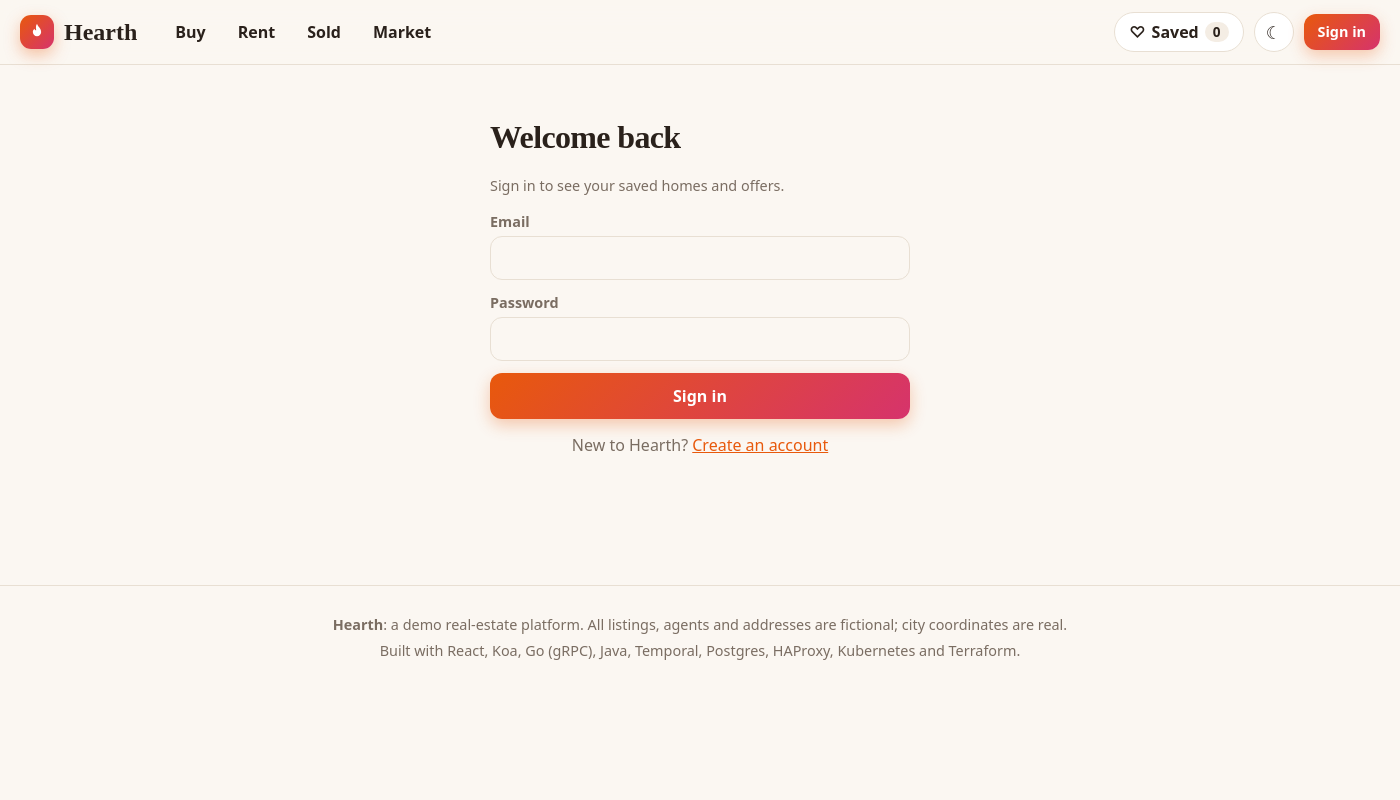
accounts and offers (network stubbed) › protected pages redirect to sign in, then return you after signing in
This screenshot has width=1400, height=800.
Type "ada@example.com" into the field named "email" at (700,258), box 490,236 -> 910,280
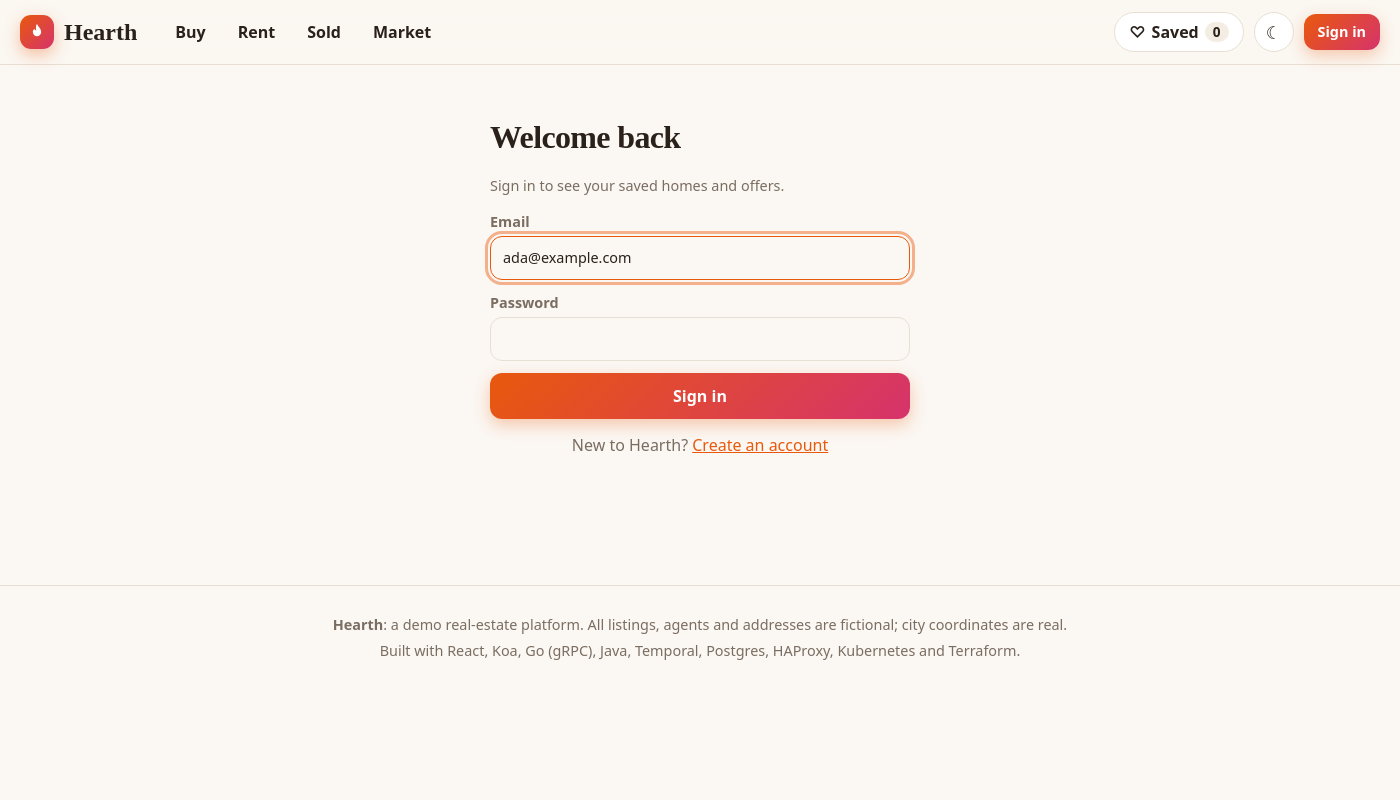
Type "correct-horse-battery" into the password field named "password" at (700,339), box 490,317 -> 910,361
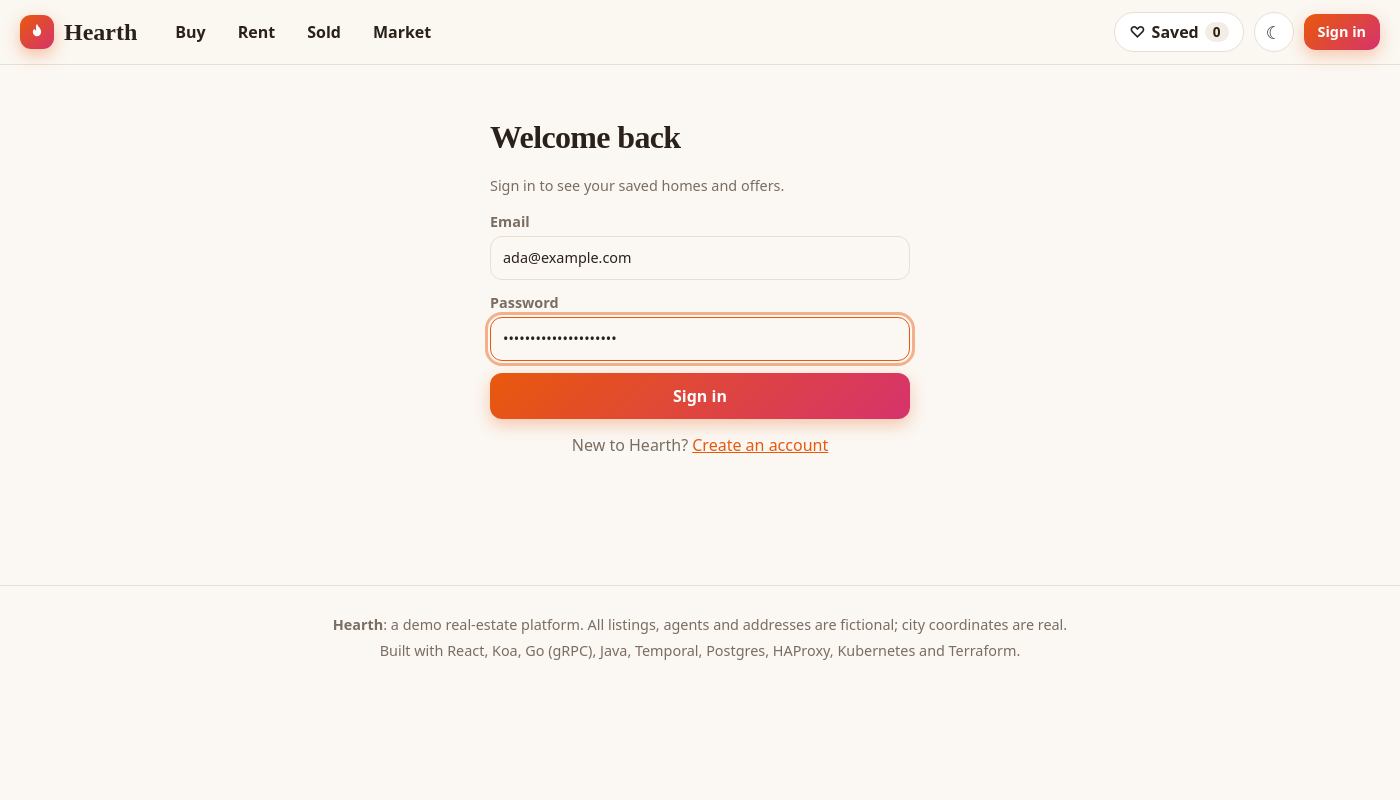
Click the button with test id "auth-submit" at (700,396), box 490,373 -> 910,419
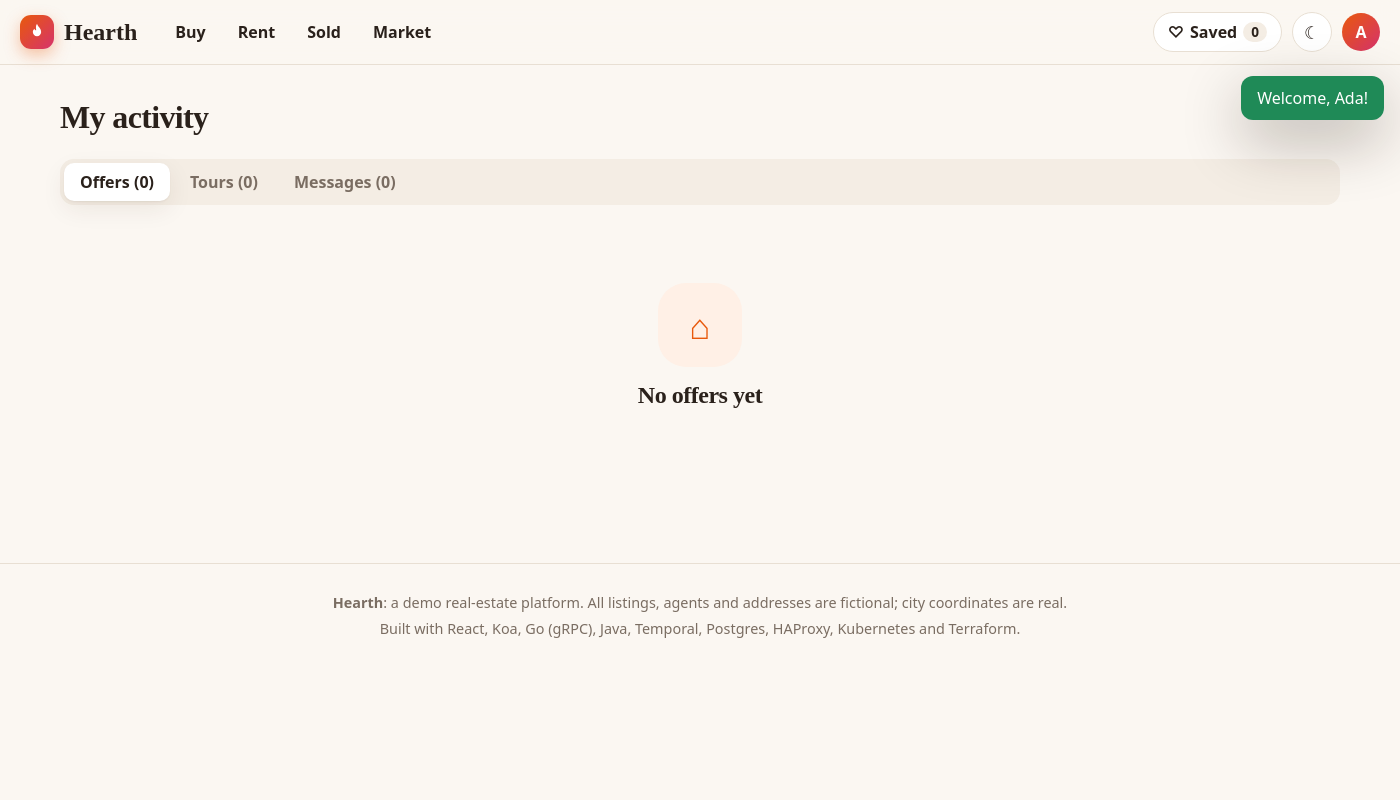
Expected: the heading "My activity" is shown, 60,99 -> 208,135
